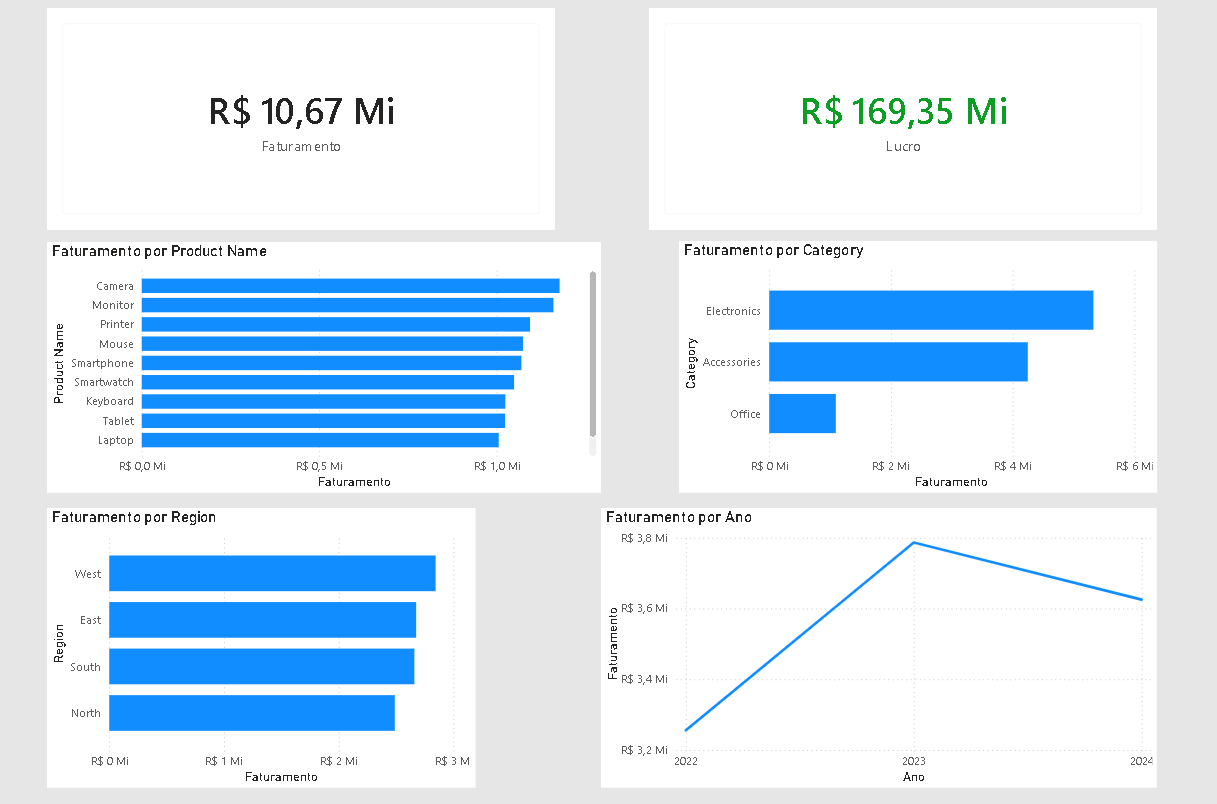

What the dashboard file says about the page in this screenshot:
{"tool":"powerbi","page":{"name":"Página 1","canvas":[1400,900],"ordinal":0},"visuals":[{"type":"cardVisual","fields":{"Data":["ecommerce_sales_data.Lucro"]},"box":[753.7,15.5,563.1,246.1],"z":0},{"type":"cardVisual","fields":{"Data":["ecommerce_sales_data.Faturamento"]},"box":[86.5,15.5,563.1,246.1],"z":1},{"type":"clusteredBarChart","fields":{"Category":["ecommerce_sales_data.Product Name"],"Y":["ecommerce_sales_data.Faturamento"]},"box":[86.5,274.9,614,278.2],"z":2},{"type":"clusteredBarChart","fields":{"Category":["ecommerce_sales_data.Category"],"Y":["ecommerce_sales_data.Faturamento"]},"box":[786.9,273.8,529.8,279.3],"z":3},{"type":"clusteredBarChart","fields":{"Category":["ecommerce_sales_data.Region"],"Y":["ecommerce_sales_data.Faturamento"]},"box":[86.5,569.7,475.5,310.3],"z":4},{"type":"lineChart","fields":{"Category":["ecommerce_sales_data.Order Date.Variation.Hierarquia de datas.Ano","ecommerce_sales_data.Order Date.Variation.Hierarquia de datas.Trimestre","ecommerce_sales_data.Order Date.Variation.Hierarquia de datas.Mês","ecommerce_sales_data.Order Date.Variation.Hierarquia de datas.Dia"],"Y":["ecommerce_sales_data.Faturamento"]},"box":[700.5,569.7,616.3,310.3],"z":5}]}

Visuals, with their boxes in screenshot pixels (x1, y1, x2, y2), scaled from the page's 1400x900 canvas onto the 1217x804 screenshot:
cardVisual - ecommerce_sales_data.Lucro: <bbox>655, 14, 1145, 234</bbox>
cardVisual - ecommerce_sales_data.Faturamento: <bbox>75, 14, 565, 234</bbox>
clusteredBarChart - ecommerce_sales_data.Product Name x ecommerce_sales_data.Faturamento: <bbox>75, 246, 609, 494</bbox>
clusteredBarChart - ecommerce_sales_data.Category x ecommerce_sales_data.Faturamento: <bbox>684, 245, 1145, 494</bbox>
clusteredBarChart - ecommerce_sales_data.Region x ecommerce_sales_data.Faturamento: <bbox>75, 509, 489, 786</bbox>
lineChart - ecommerce_sales_data.Order Date.Variation.Hierarquia de datas.Ano x ecommerce_sales_data.Order Date.Variation.Hierarquia de datas.Trimestre: <bbox>609, 509, 1145, 786</bbox>
